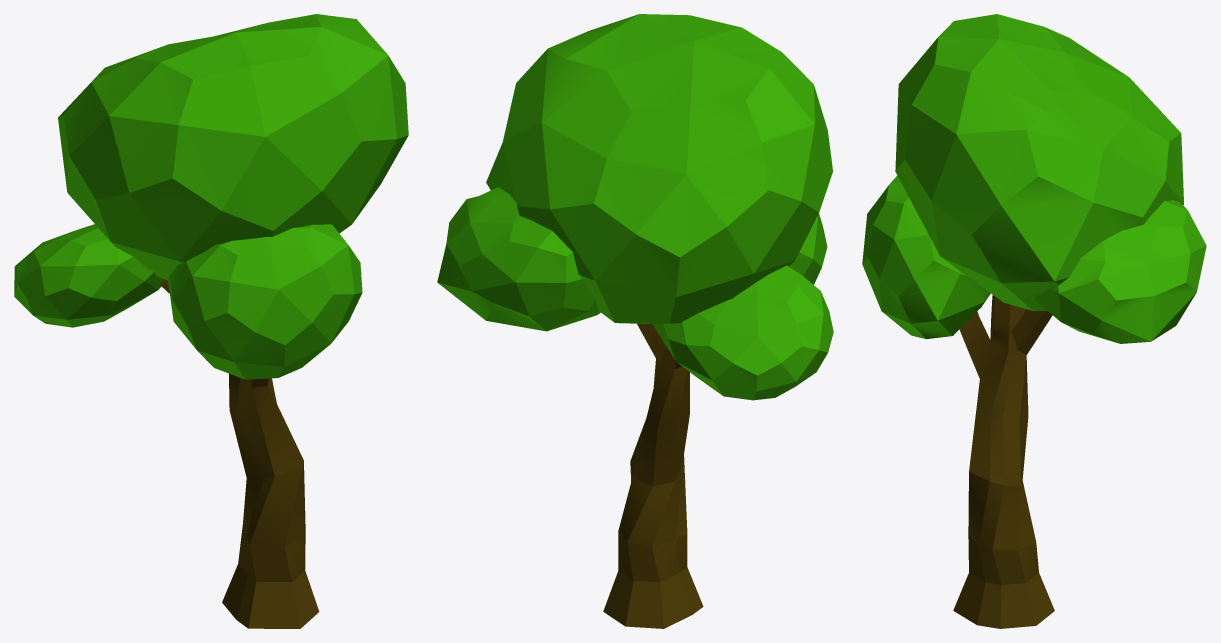
The model's file is GreenTree1.fbx.
3 renders of one model, left to right at view 1: azimuth 30°, elevation 25°; view 2: azimuth 150°, elevation 25°; view 3: azimuth 270°, elevation 25°, orthographic. The views are drawn at different scales.
Visible parts, largest first — view 1: pPlatonic39; view 2: pPlatonic39; view 3: pPlatonic39.
Boxes of the visible parts, <box> form: pPlatonic39: <box>14,14,408,628</box>; pPlatonic39: <box>437,14,833,628</box>; pPlatonic39: <box>862,14,1206,628</box>.
Size of the model in its own units: 4.62 by 7.15 by 4.03.
